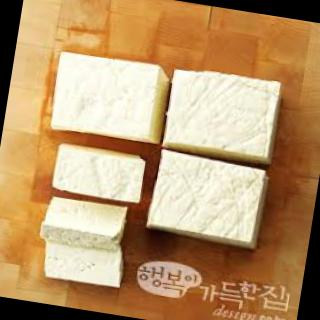Tahu: (7, 37, 304, 318)
